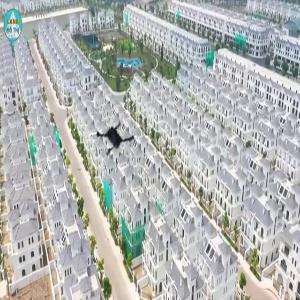drone: (87, 112, 144, 169)
